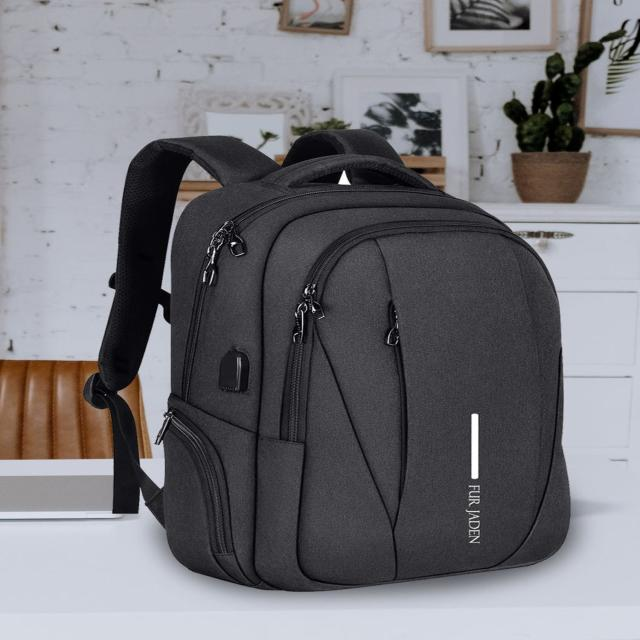backpack: (84, 129, 572, 593)
